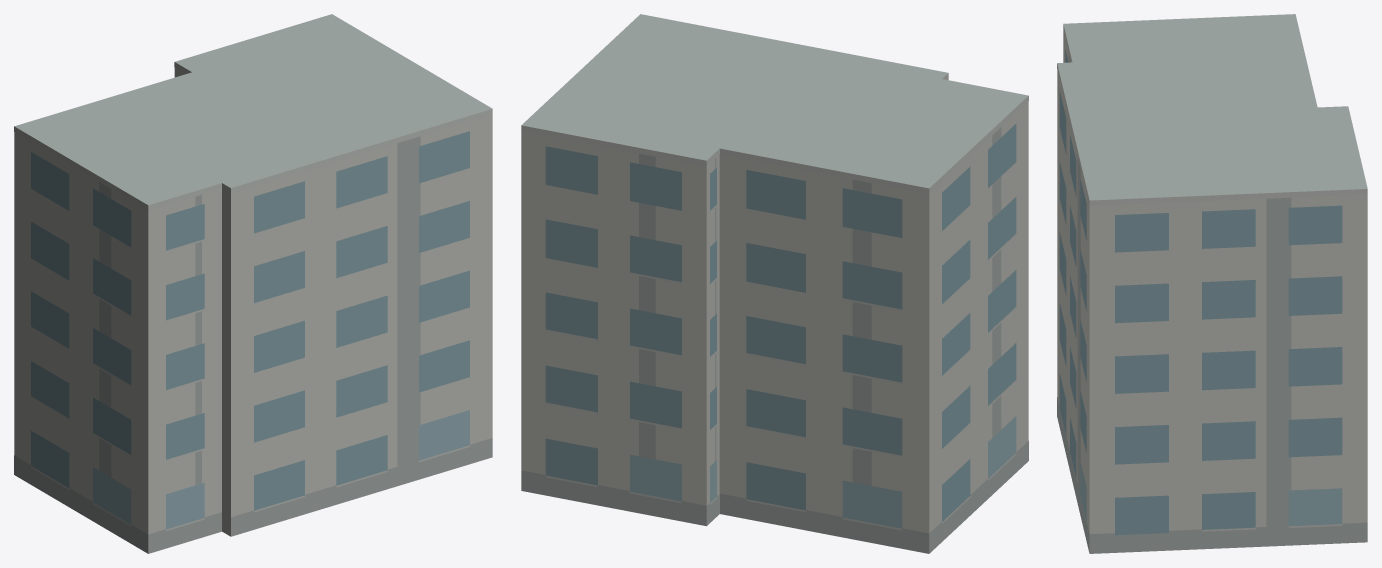
Rendered from survey-upis-32621672.glb.
3 views of the same model, side by side, from view 1: azimuth 30°, elevation 25°; view 2: azimuth 150°, elevation 25°; view 3: azimuth 270°, elevation 25° (orthographic). The views are drawn at different scales.
Parts seen in each view (by area): view 1: survey-upis-32621672.tmp; view 2: survey-upis-32621672.tmp; view 3: survey-upis-32621672.tmp.
Part boxes in pixels (x1,y1,x2,y2): survey-upis-32621672.tmp: (14,14,492,553); survey-upis-32621672.tmp: (521,14,1028,553); survey-upis-32621672.tmp: (1057,14,1367,553).
Bounding box in the file's own units: 17.27 × 15.25 × 12.16.
